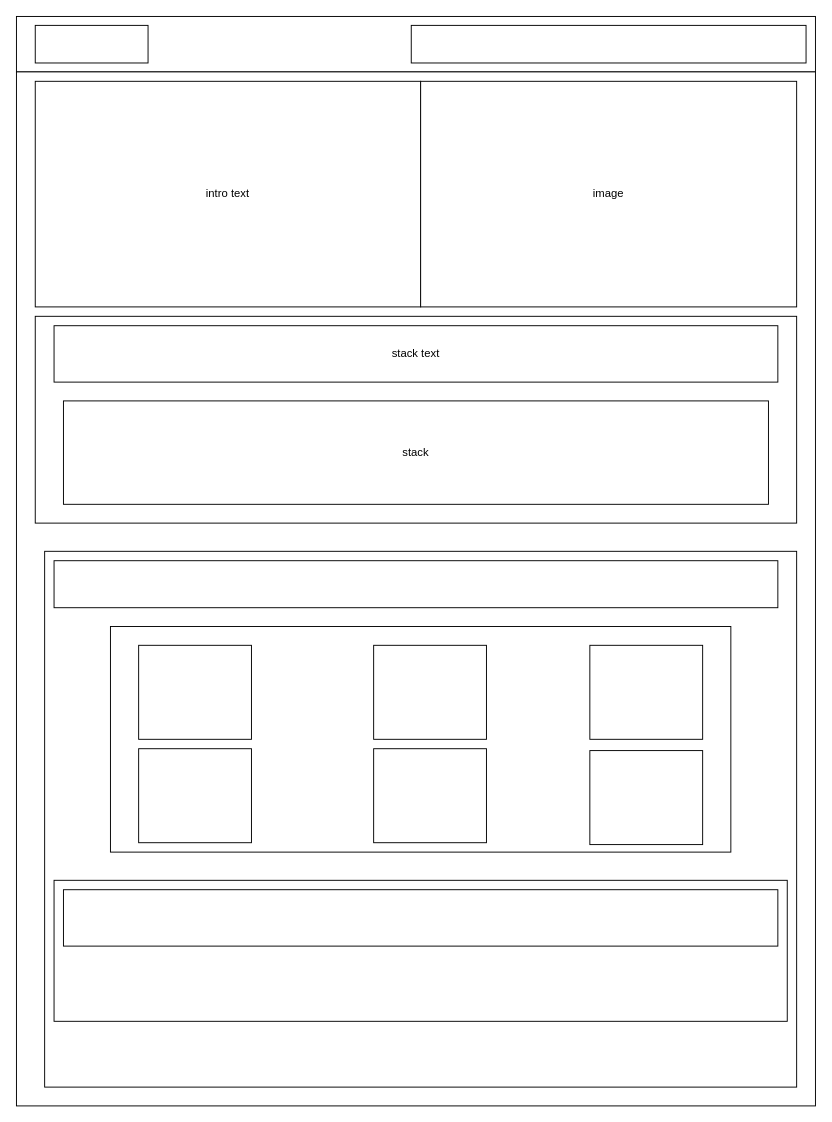
Image size: 832x1122. Some labels were removed from this diagram. Each missing label, with the centre of its shape:
"links" belongs at (608,43).
"logo" belongs at (91,43).
